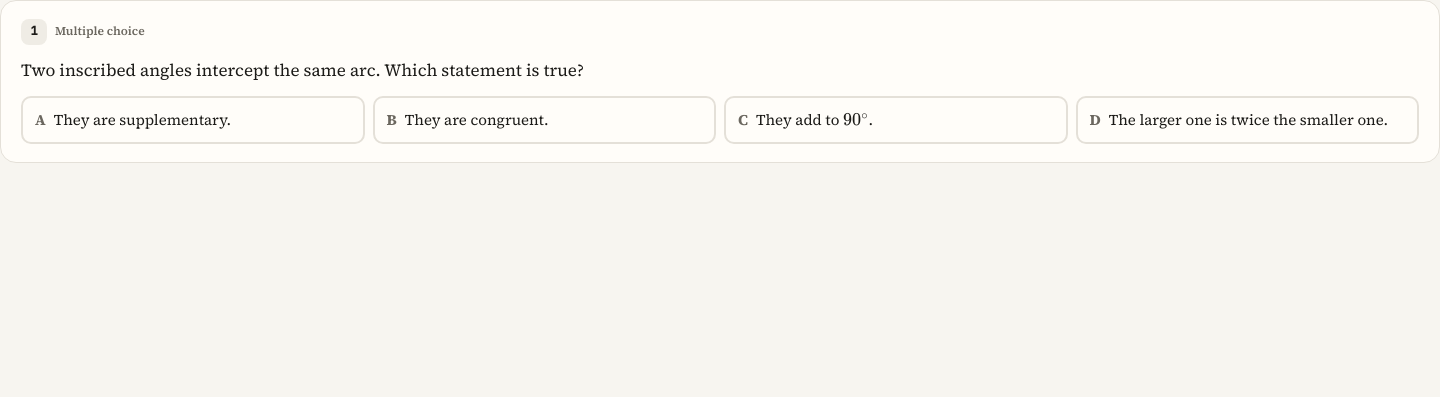
Test: QuestionCard › offers Try again after a wrong multiple-choice answer
# jsdom cannot compute accessible names over KaTeX output, so pick the choice by class.
Step 1. Click the 1st button with class "choice" → coordinates (193, 120), box [21, 96, 364, 144]
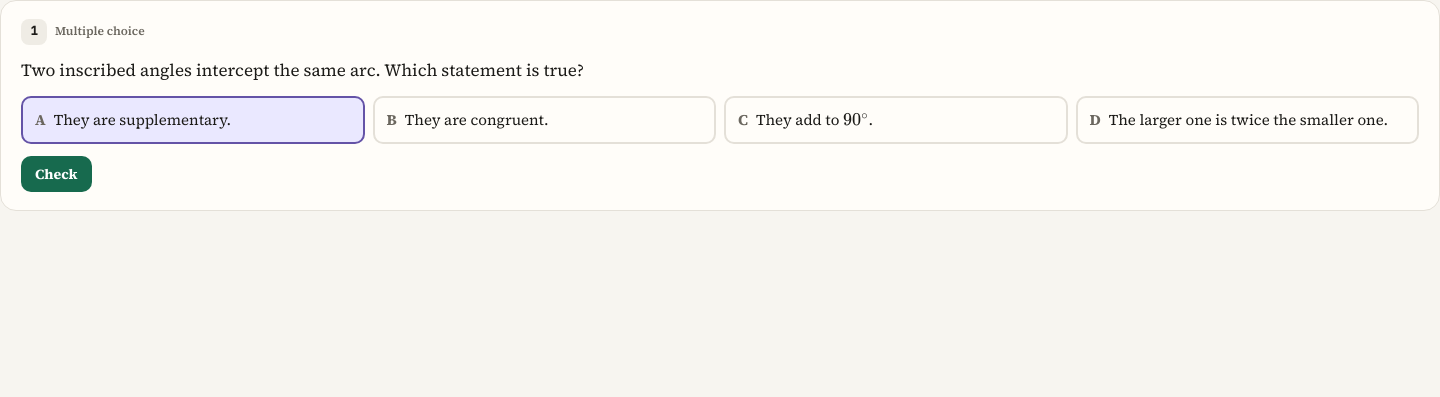
Step 2. Click the button "Check" → coordinates (56, 174), box [21, 156, 92, 192]
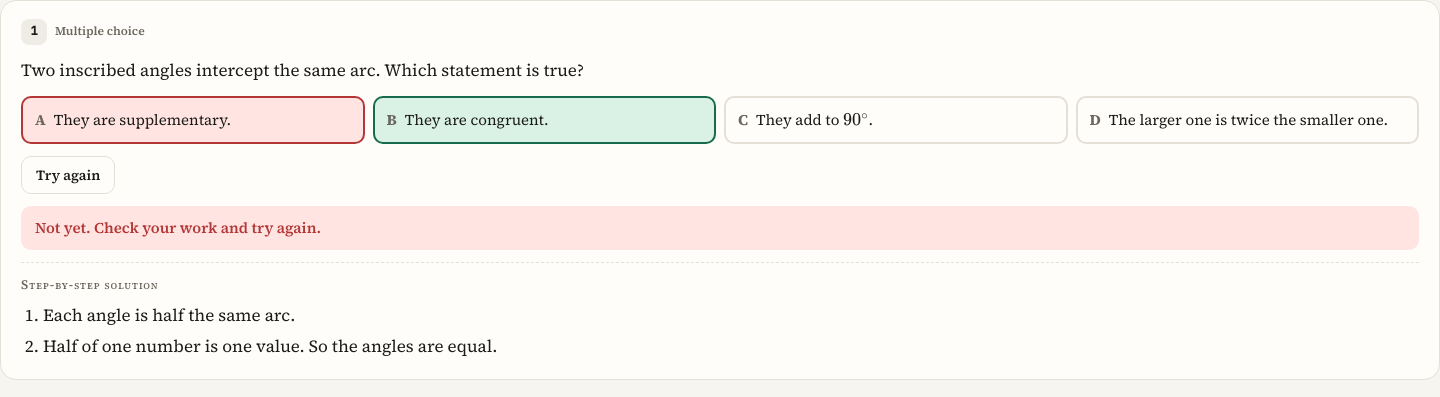
Result: the message shows "Not yet" at [35, 217, 321, 238]
Step 3. Click the button "Try again" → coordinates (68, 175), box [21, 156, 115, 194]
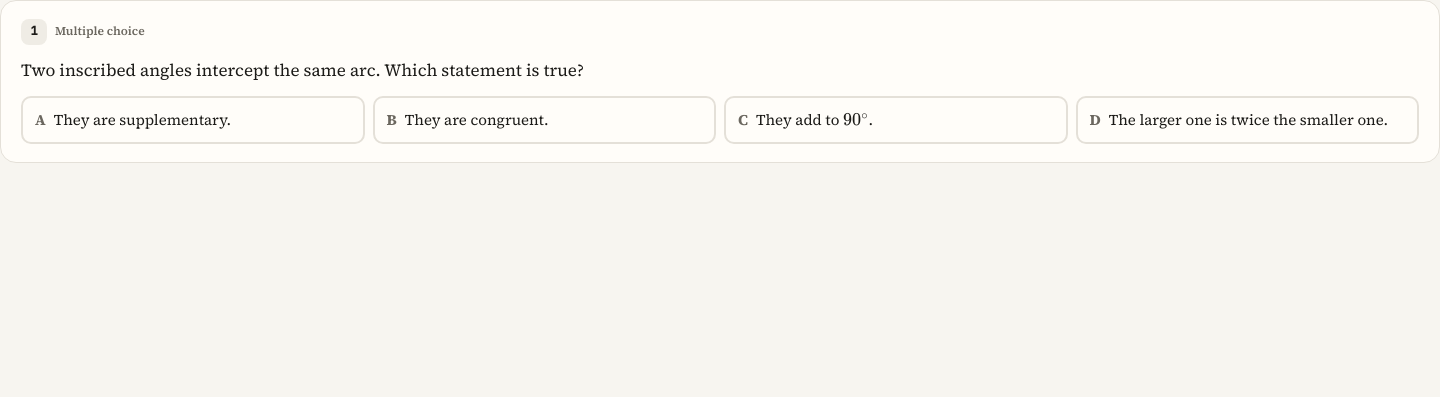
Result: the message "Not yet. Check your work and try again." is gone
